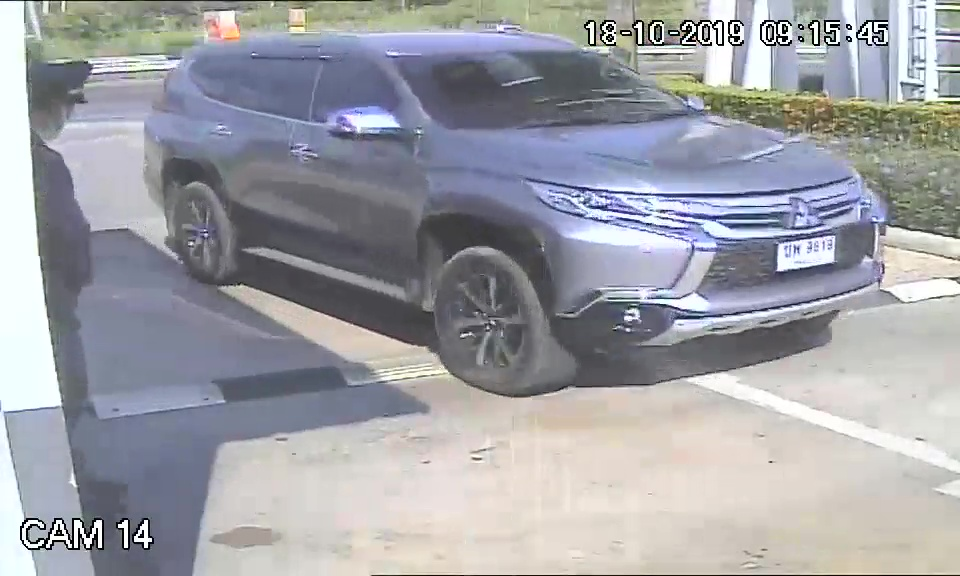pickup: (133, 24, 895, 396)
